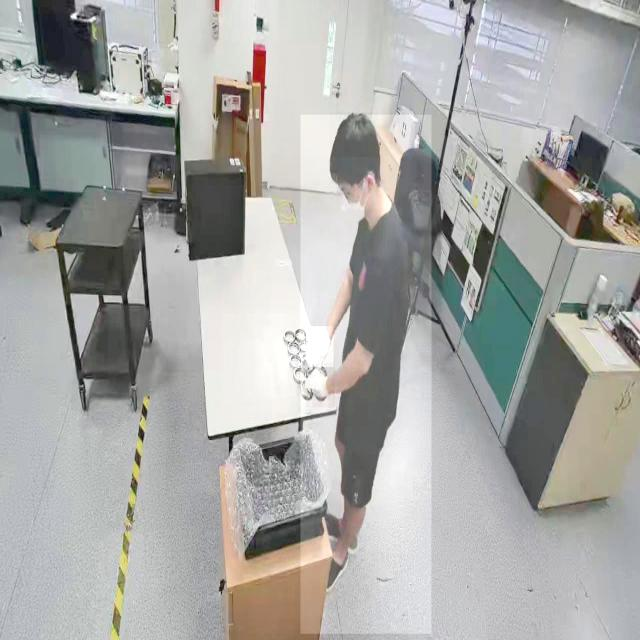hand_glove: (298, 326, 334, 367), (306, 363, 336, 408)
head_nohelmet: (329, 112, 379, 158)
person: (300, 115, 432, 634)
shoes: (317, 504, 360, 554), (321, 542, 349, 595)
